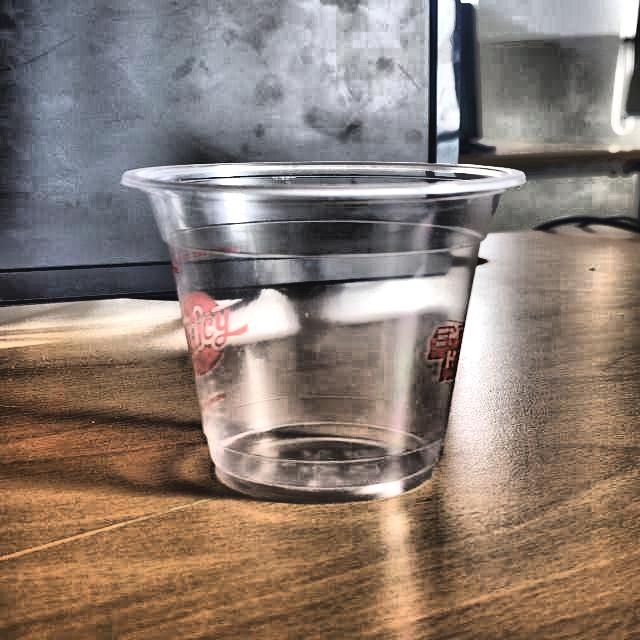plastic cup: (122, 162, 524, 501)
